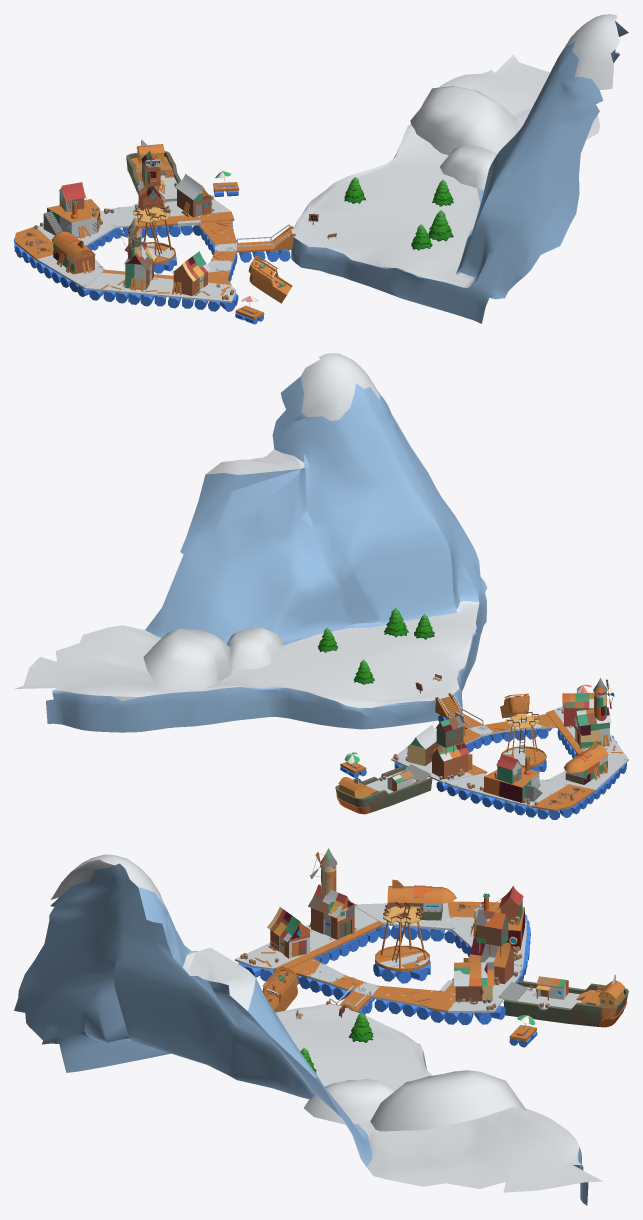
The model's file is Individual_BearTown_02.fbx.
3 views of the same model, one above another, from view 1: azimuth 30°, elevation 25°; view 2: azimuth 150°, elevation 25°; view 3: azimuth 270°, elevation 25° (orthographic). The views are drawn at different scales.
Parts seen in each view (by area): view 1: pasted__TheBerg, pasted__polySurface300, pasted__SnowPatch2, pasted__pCube445, pasted__SnowPatch3, pasted__polySurface230, pasted__pCube353, pasted__polySurface242, pasted__pCube380, pasted__polySurface278, pasted__polySurface226, pasted__polySurface240 (+4 smaller); view 2: pasted__TheBerg, pasted__polySurface300, pasted__SnowPatch2, pasted__polySurface301, pasted__polySurface242, pasted__SnowPatch3, pasted__pCube445, pasted__polySurface230, pasted__pCube380, pasted__pCube353, pasted__polySurface240, pasted__polySurface226; view 3: pasted__TheBerg, pasted__polySurface300, pasted__SnowPatch2, pasted__polySurface301, pasted__SnowPatch3, pasted__polySurface230, pasted__polySurface242, pasted__pCube380, pasted__pCube353, pasted__polySurface240, pasted__polySurface226, pasted__polySurface278 (+4 smaller).
Boxes of the visible parts, bbox=[...] form: pasted__TheBerg: bbox=[291, 14, 628, 323]; pasted__polySurface300: bbox=[15, 199, 295, 302]; pasted__SnowPatch2: bbox=[410, 86, 516, 155]; pasted__pCube445: bbox=[47, 182, 100, 237]; pasted__SnowPatch3: bbox=[440, 145, 497, 190]; pasted__polySurface230: bbox=[124, 217, 156, 290]; pasted__pCube353: bbox=[52, 231, 95, 274]; pasted__polySurface242: bbox=[137, 151, 166, 220]; pasted__pCube380: bbox=[127, 203, 175, 264]; pasted__polySurface278: bbox=[248, 256, 292, 303]; pasted__polySurface226: bbox=[172, 251, 210, 295]; pasted__polySurface240: bbox=[175, 174, 213, 217]; pasted__TheBerg: bbox=[15, 353, 487, 732]; pasted__polySurface300: bbox=[391, 693, 628, 811]; pasted__SnowPatch2: bbox=[143, 629, 231, 692]; pasted__polySurface301: bbox=[335, 764, 432, 814]; pasted__polySurface242: bbox=[429, 711, 472, 779]; pasted__SnowPatch3: bbox=[226, 627, 283, 670]; pasted__pCube445: bbox=[484, 754, 539, 802]; pasted__polySurface230: bbox=[573, 678, 611, 748]; pasted__pCube380: bbox=[500, 709, 546, 767]; pasted__pCube353: bbox=[564, 740, 608, 784]; pasted__polySurface240: bbox=[405, 725, 440, 765]; pasted__polySurface226: bbox=[562, 693, 593, 726]; pasted__TheBerg: bbox=[14, 854, 602, 1205]; pasted__polySurface300: bbox=[235, 901, 526, 1012]; pasted__SnowPatch2: bbox=[370, 1070, 526, 1131]; pasted__polySurface301: bbox=[498, 980, 628, 1027]; pasted__SnowPatch3: bbox=[304, 1079, 395, 1124]; pasted__polySurface230: bbox=[308, 848, 356, 939]; pasted__polySurface242: bbox=[463, 904, 515, 984]; pasted__pCube380: bbox=[375, 902, 429, 971]; pasted__pCube353: bbox=[387, 879, 456, 920]; pasted__polySurface240: bbox=[454, 962, 494, 1001]; pasted__polySurface226: bbox=[267, 907, 311, 958]; pasted__polySurface278: bbox=[262, 966, 298, 1012].
Size of the model in its own units: 10678 by 4893 by 8784.
